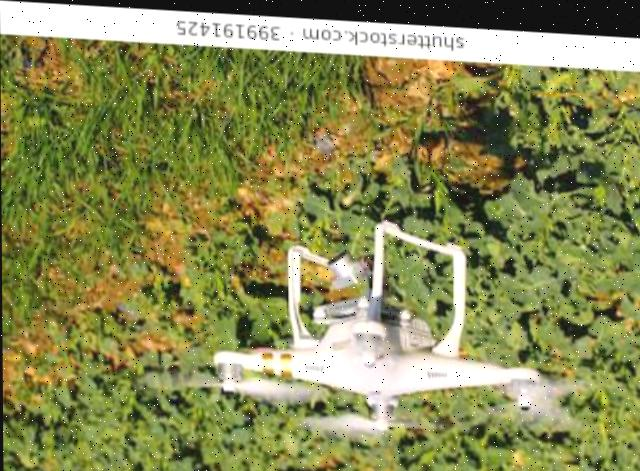drone: (146, 190, 640, 446)
